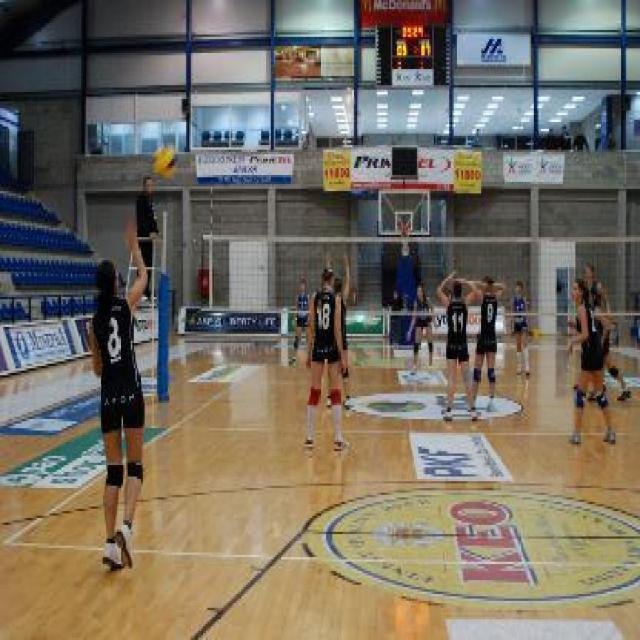volleyball: (149, 146, 178, 178)
